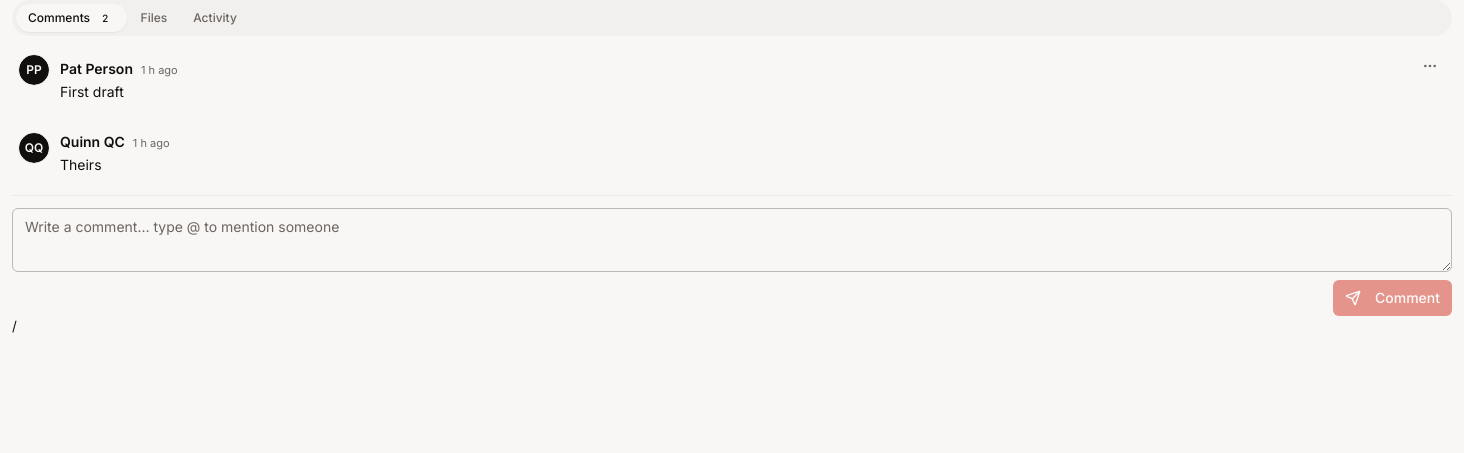
Test: comments › editing and deleting › only the author can edit; the edit is saved and marked
Expected: the text "First draft" is shown, [60, 83, 124, 100]
Click the button named "Actions for the comment by Pat Person": point(1430, 66) [1418, 54, 1442, 78]
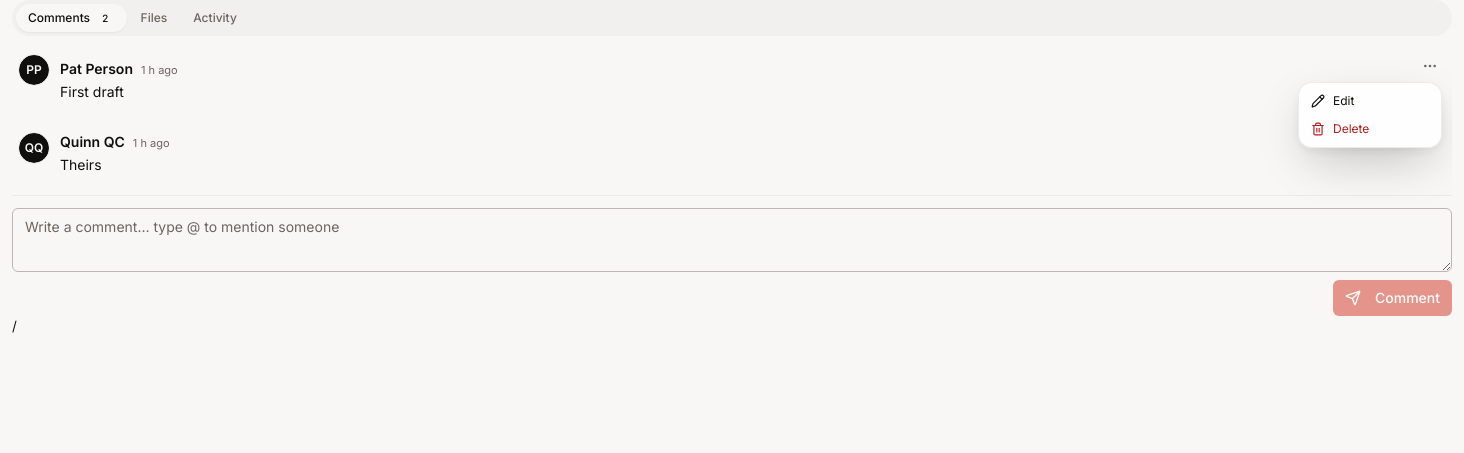
Click the menu item "Edit": point(1333, 100) [1311, 93, 1354, 108]
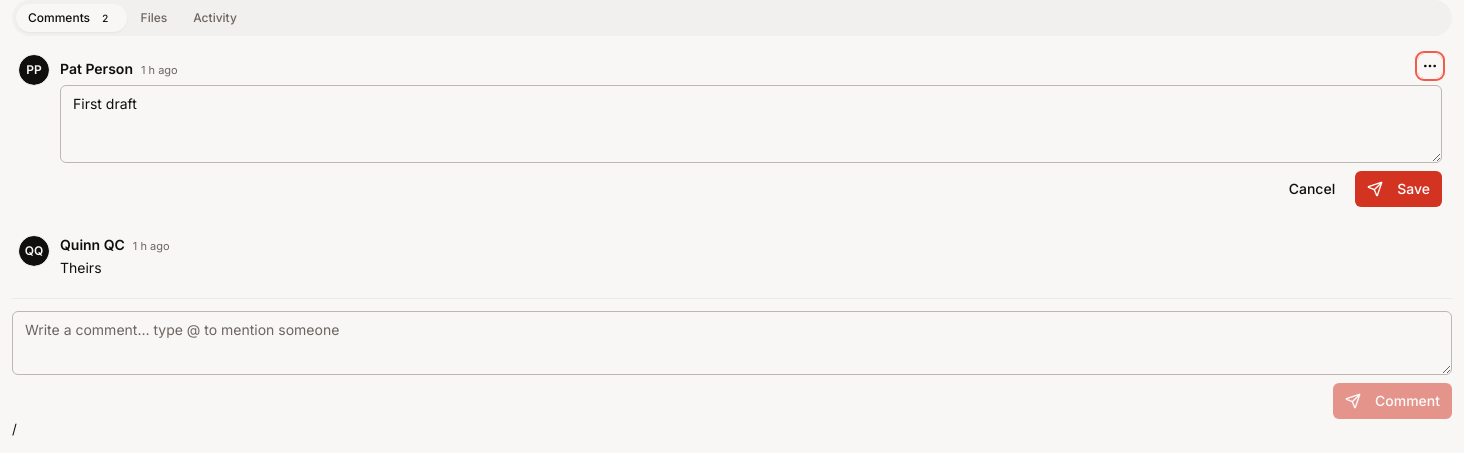
Now the dropdown named "Edit comment" holds "First draft"
Replace the text in the dropdown named "Edit comment" with "Second draft": point(751, 124) [60, 85, 1442, 163]
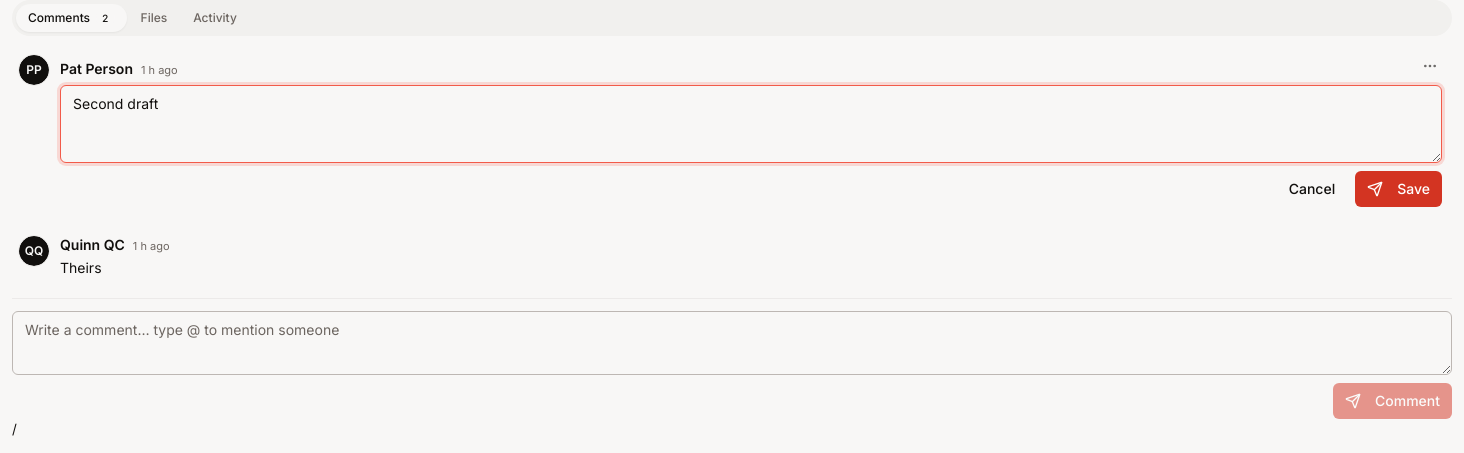
Click the button "Save": point(1399, 189) [1355, 171, 1442, 207]
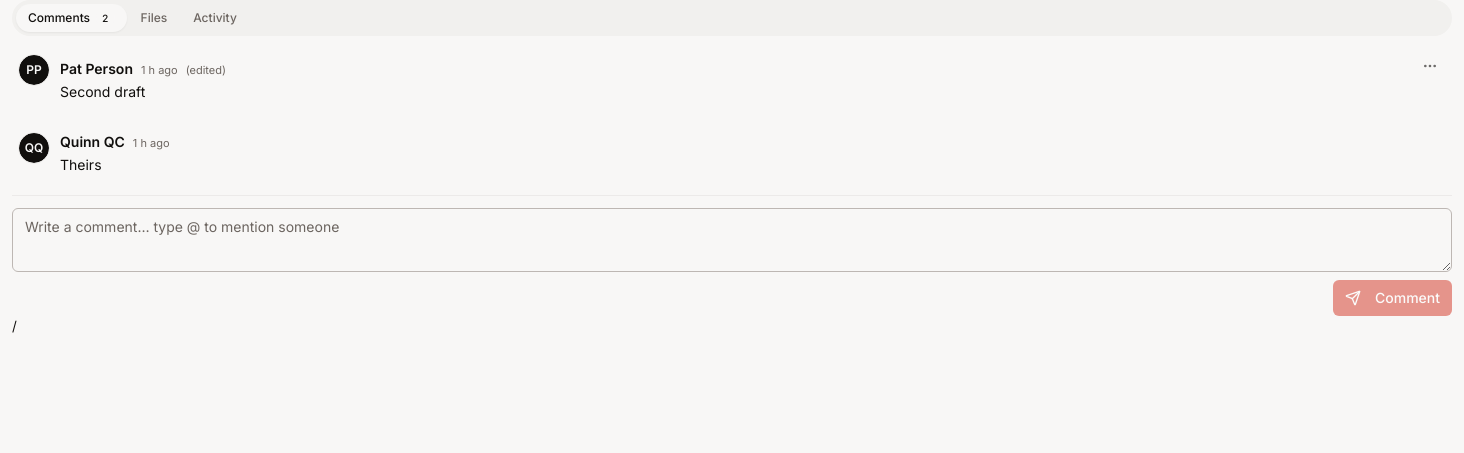
Now the text "Second draft" is shown, box [60, 83, 145, 100]
Now the text "(edited)" is shown, box [186, 62, 226, 78]
